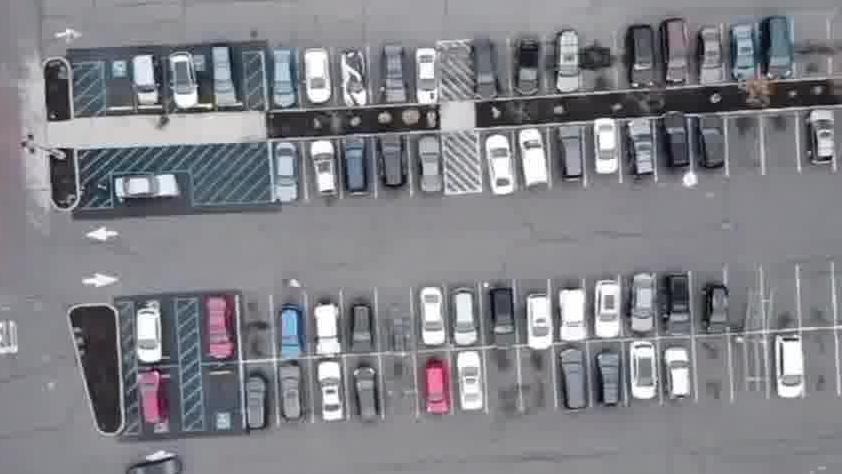car: (452, 351, 490, 418), (770, 333, 805, 403), (761, 19, 797, 84), (625, 28, 660, 93), (484, 135, 519, 200), (113, 174, 184, 206), (662, 22, 693, 91), (690, 115, 726, 174), (315, 363, 348, 427), (560, 353, 592, 419), (630, 347, 664, 409), (308, 138, 341, 201), (659, 113, 692, 176), (596, 352, 628, 415), (489, 290, 520, 355), (472, 39, 503, 103), (519, 133, 552, 193), (524, 296, 558, 354), (661, 272, 692, 335), (667, 348, 698, 411), (557, 128, 589, 189), (206, 294, 236, 359), (270, 144, 299, 209), (418, 284, 447, 349), (555, 31, 583, 98), (352, 363, 383, 423), (421, 362, 452, 422), (558, 290, 590, 348), (170, 55, 203, 111), (451, 286, 479, 352), (595, 283, 625, 344), (416, 136, 445, 198), (805, 111, 836, 169), (377, 135, 407, 194), (341, 137, 370, 198), (315, 300, 346, 357), (307, 49, 336, 109), (384, 47, 413, 107), (244, 370, 272, 432), (628, 120, 657, 179), (140, 367, 169, 426), (211, 49, 240, 107), (730, 29, 759, 87), (700, 282, 730, 338), (137, 305, 165, 364), (271, 49, 298, 110), (515, 40, 541, 103), (416, 47, 443, 107), (630, 272, 655, 336), (342, 50, 370, 107), (279, 363, 306, 422), (593, 117, 619, 178), (134, 54, 163, 107), (275, 305, 304, 358), (700, 30, 725, 91), (352, 304, 376, 357), (126, 454, 180, 474)
